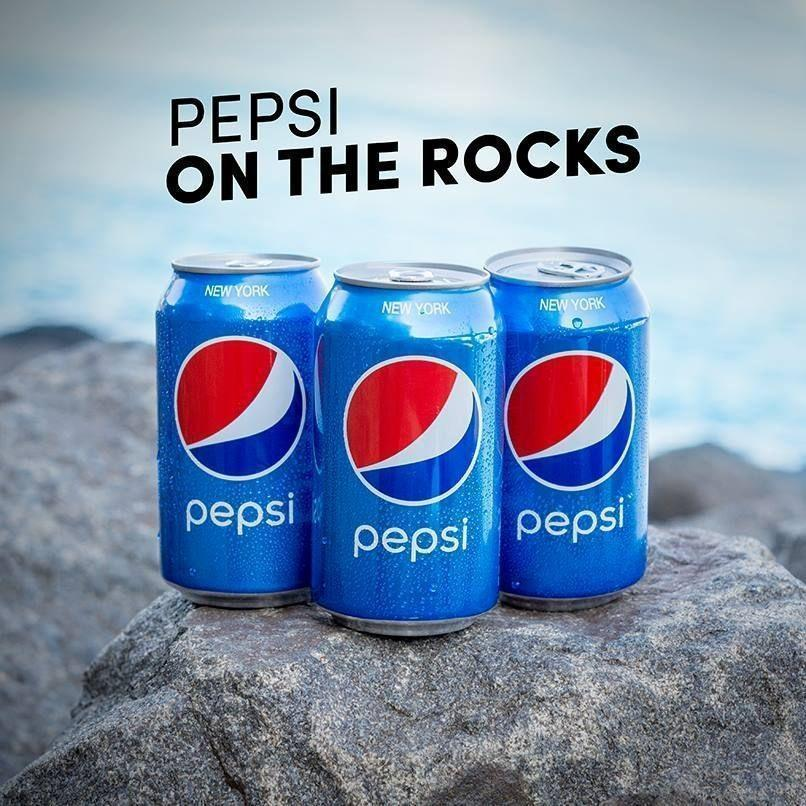tin can: (312, 256, 504, 638), (485, 243, 654, 612), (154, 248, 325, 607)
